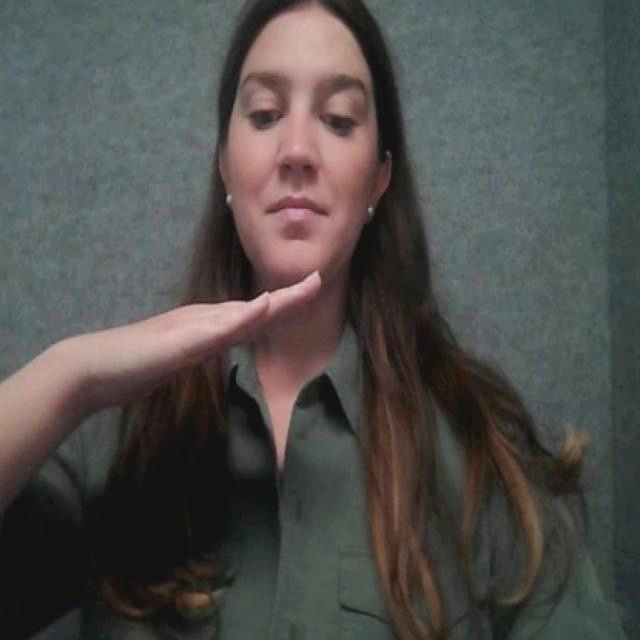Paper: (86, 271, 338, 425)
